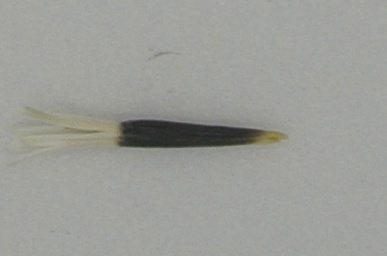เมล็ดดีติดกัน: (7, 101, 289, 168)
